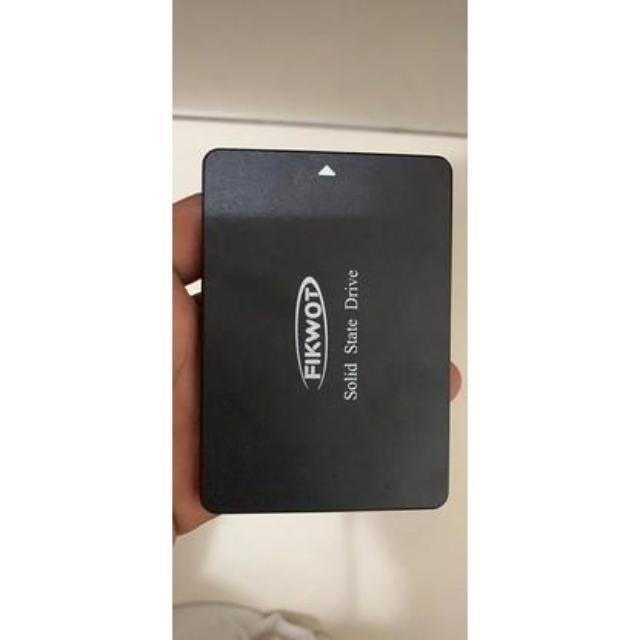DISK: (192, 143, 456, 517)
